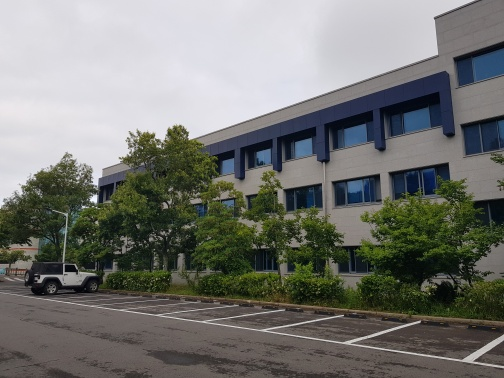College of Social Sciences: (95, 38, 503, 302)
